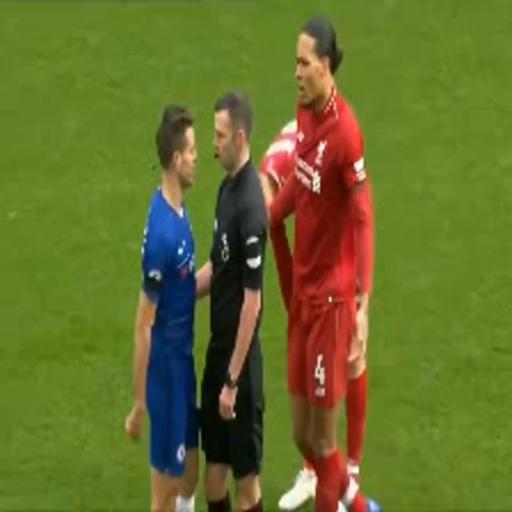nao-violencia: (205, 15, 390, 512), (116, 88, 274, 512)
